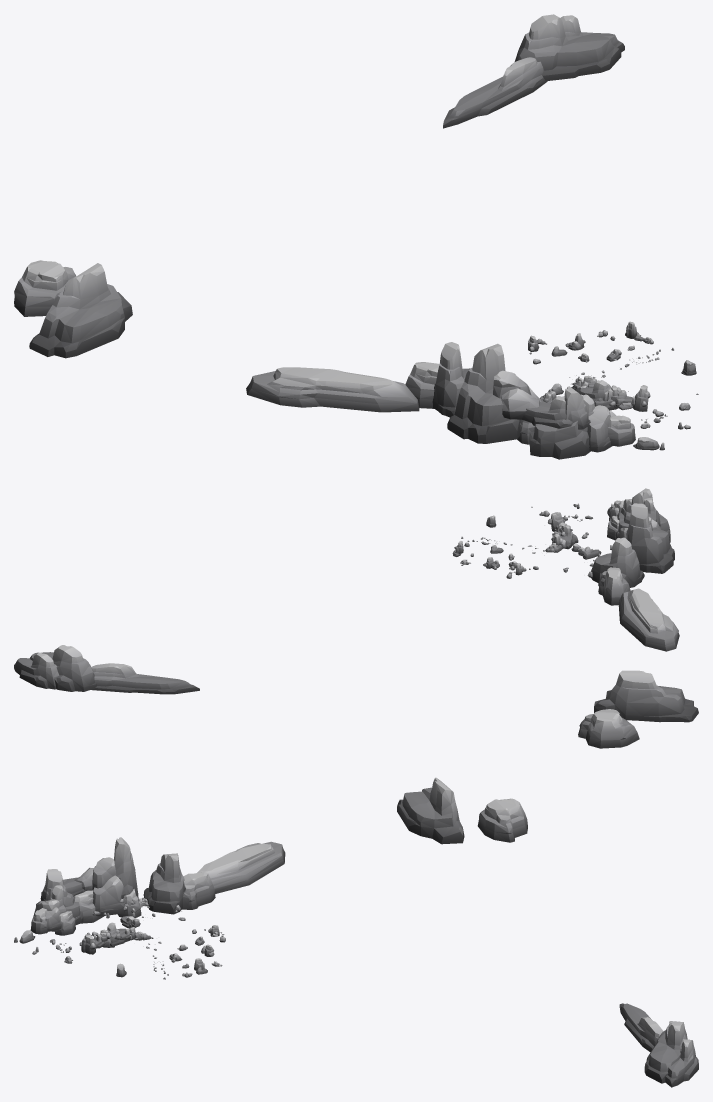
Rendered from Rocks.fbx.
The picture shows the model from 3 angles, top to bottom: view 1: azimuth 30°, elevation 25°; view 2: azimuth 150°, elevation 25°; view 3: azimuth 270°, elevation 25°; orthographic projection. The views are drawn at different scales.
Visible parts, largest first — view 1: RockCliff_03_19, RockCliff_01_15, RockCliff_03_20, RockCliff_03_17, RockCliff_03_22, RockCliff_01_16, RockCliff_03_15, RockCliff_03_16, RockCliff_03_18, RockCliff_01_11, RockCliff_02_7, RockLrg_01_12 (+1 smaller); view 2: RockCliff_03_19, RockCliff_01_15, RockCliff_03_17, RockCliff_03_22, RockCliff_01_16, RockCliff_03_20, RockCliff_03_16, RockCliff_03_21, RockCliff_01_11, RockCliff_03_15; view 3: RockCliff_03_19, RockCliff_01_15, RockCliff_03_16, RockCliff_01_16, RockCliff_03_20, RockCliff_03_22, RockCliff_02_8, RockCliff_03_17, RockCliff_03_21, RockCliff_01_11, RockCliff_02_9, RockCliff_03_15 (+1 smaller).
Part boxes in pixels (x1=…): RockCliff_03_19: x1=29, y1=263, x2=132, y2=358; RockCliff_01_15: x1=246, y1=367, x2=419, y2=412; RockCliff_03_20: x1=514, y1=14, x2=621, y2=81; RockCliff_03_17: x1=447, y1=343, x2=520, y2=443; RockCliff_03_22: x1=443, y1=57, x2=547, y2=128; RockCliff_01_16: x1=14, y1=260, x2=76, y2=316; RockCliff_03_15: x1=529, y1=386, x2=590, y2=459; RockCliff_03_16: x1=432, y1=342, x2=469, y2=417; RockCliff_03_18: x1=522, y1=396, x2=590, y2=429; RockCliff_01_11: x1=405, y1=362, x2=439, y2=408; RockCliff_02_7: x1=587, y1=405, x2=612, y2=452; RockLrg_01_12: x1=501, y1=388, x2=539, y2=419; RockCliff_03_19: x1=594, y1=670, x2=698, y2=722; RockCliff_01_15: x1=618, y1=588, x2=679, y2=651; RockCliff_03_17: x1=626, y1=503, x2=674, y2=573; RockCliff_03_22: x1=91, y1=663, x2=199, y2=694; RockCliff_01_16: x1=578, y1=709, x2=639, y2=748; RockCliff_03_20: x1=30, y1=645, x2=96, y2=691; RockCliff_03_16: x1=591, y1=537, x2=644, y2=587; RockCliff_03_21: x1=14, y1=652, x2=59, y2=689; RockCliff_01_11: x1=598, y1=567, x2=630, y2=605; RockCliff_03_15: x1=624, y1=488, x2=670, y2=542; RockCliff_03_19: x1=397, y1=777, x2=464, y2=844; RockCliff_01_15: x1=197, y1=841, x2=285, y2=893; RockCliff_03_16: x1=143, y1=853, x2=189, y2=914; RockCliff_01_16: x1=477, y1=798, x2=527, y2=842; RockCliff_03_20: x1=644, y1=1021, x2=687, y2=1083; RockCliff_03_22: x1=619, y1=1003, x2=663, y2=1052; RockCliff_02_8: x1=92, y1=875, x2=125, y2=916; RockCliff_03_17: x1=94, y1=837, x2=138, y2=898; RockCliff_03_21: x1=665, y1=1039, x2=698, y2=1087; RockCliff_01_11: x1=182, y1=871, x2=215, y2=909; RockCliff_02_9: x1=92, y1=857, x2=116, y2=890; RockCliff_03_15: x1=36, y1=869, x2=74, y2=906.
Size of the model in its own units: 113212 by 12176 by 114093.
